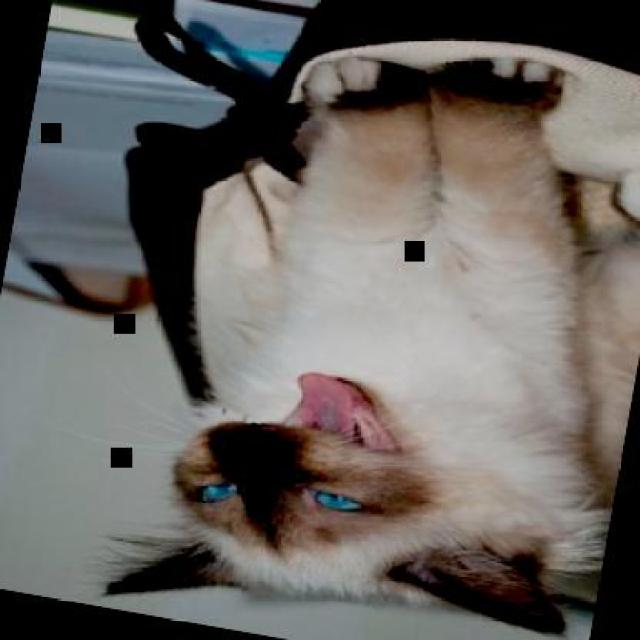cat: (97, 3, 638, 639)
